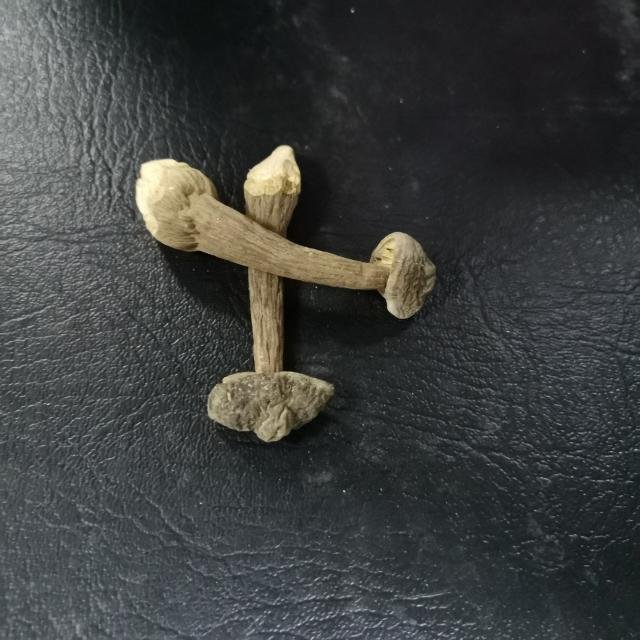Collybia albuminosa: (135, 156, 443, 319), (212, 141, 335, 439)
